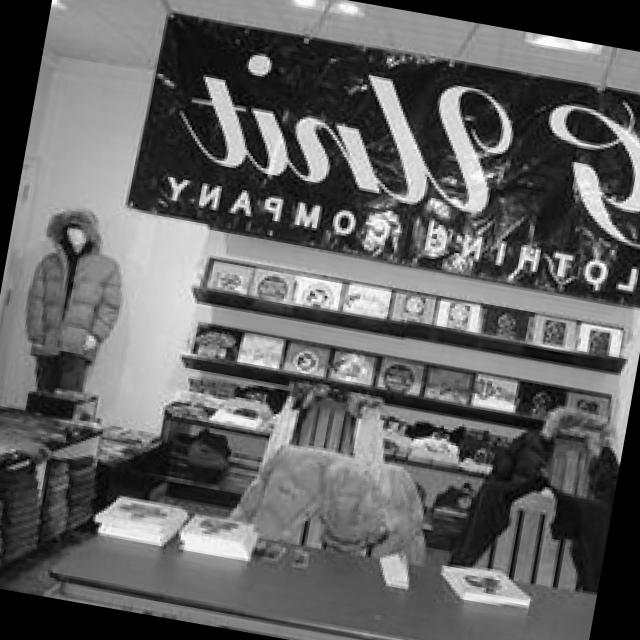book case: (443, 560, 535, 609)
books crop: (100, 493, 193, 544), (182, 510, 264, 559)
ceiling beam: (50, 0, 640, 144)
chair part: (462, 479, 605, 589), (526, 427, 605, 493), (294, 395, 359, 451)
dummy occluded: (26, 205, 123, 391)
floor -X: (0, 426, 602, 640)
jacket: (230, 442, 430, 560), (450, 477, 610, 592), (488, 407, 619, 503), (264, 380, 386, 464)
lamp crop: (340, 0, 363, 15), (295, 0, 321, 9)
shelf crop: (197, 283, 628, 373), (185, 352, 547, 428)
shirts: (0, 454, 39, 561), (42, 456, 73, 545)
stand clothes: (0, 383, 173, 569)
table runner: (50, 511, 597, 640)
text: (128, 7, 640, 303)
wall clock: (0, 53, 640, 550), (0, 36, 62, 421)
